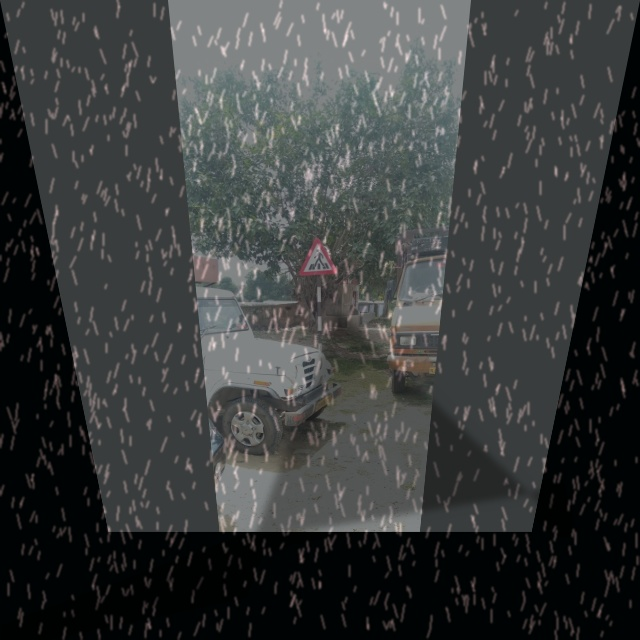Pedestrian_Crossing: (293, 229, 348, 279)
